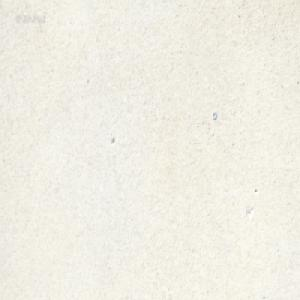Washer: (211, 110, 217, 121)
